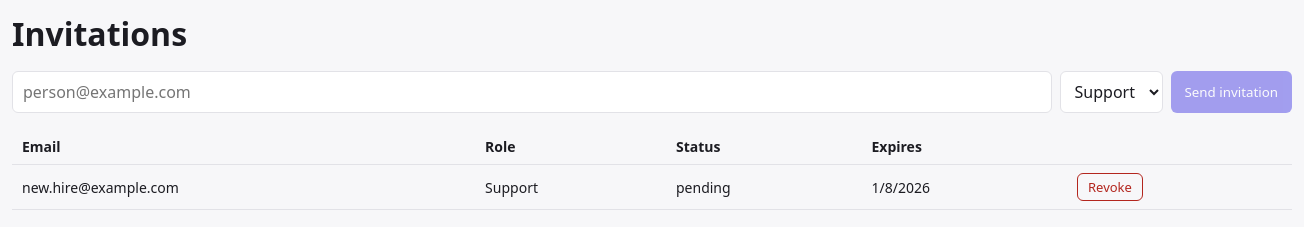
Test: InvitationsPage › revokes an invitation after confirmation
Check: the text "new.hire@example.com" is shown, box [12,164,475,210]
Click the button "Revoke".
click(1110, 187)  # box [1077,173,1143,201]
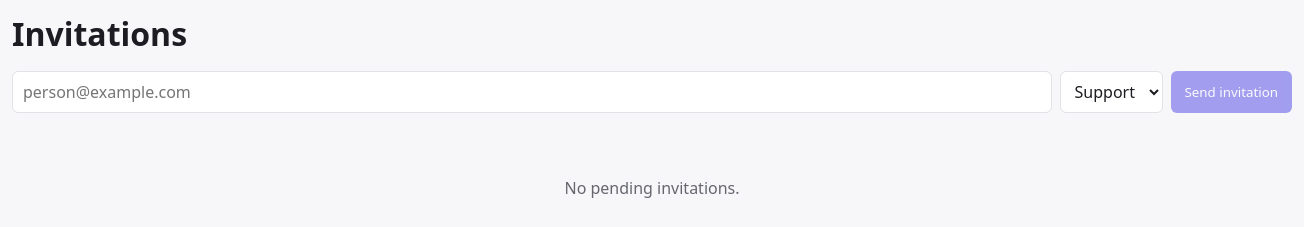
Check: the text "new.hire@example.com" is gone
